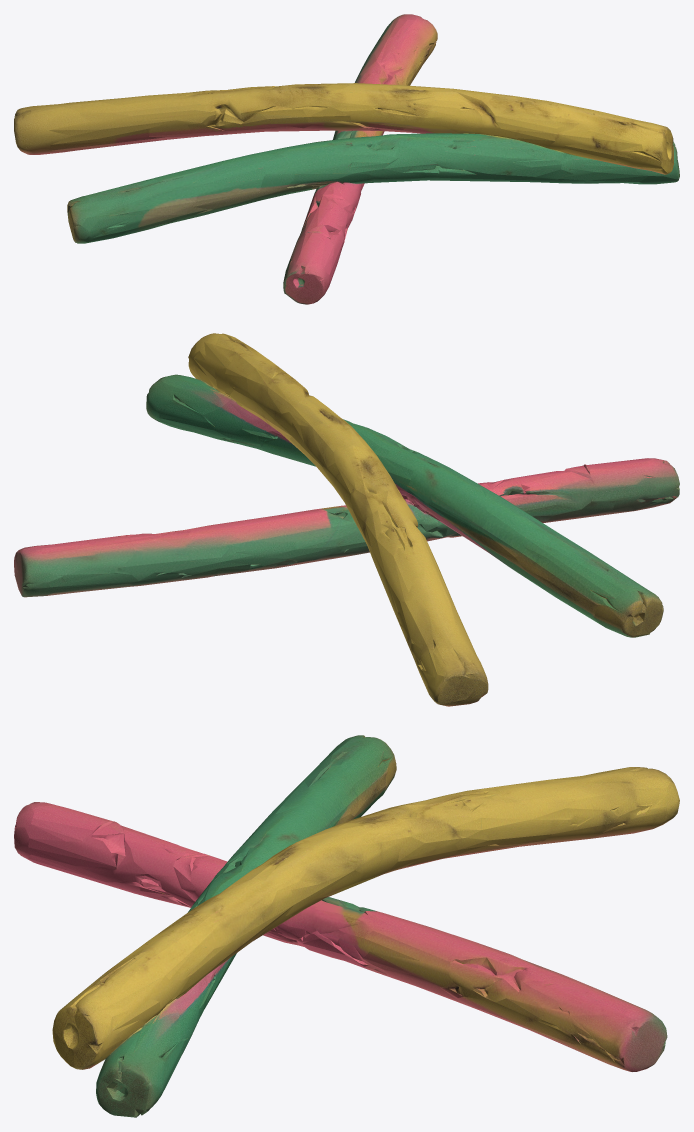
The model's file is tubi_galleggianti_meshy.glb.
3 renders of one model, top to bottom at view 1: azimuth 30°, elevation 25°; view 2: azimuth 150°, elevation 25°; view 3: azimuth 270°, elevation 25°, orthographic. The views are drawn at different scales.
Parts seen in each view (by area): view 1: Mesh_0; view 2: Mesh_0; view 3: Mesh_0.
Part boxes in pixels (bbox=[...]): Mesh_0: bbox=[14, 14, 679, 304]; Mesh_0: bbox=[14, 333, 679, 706]; Mesh_0: bbox=[14, 735, 679, 1117].
Bounding box in the file's own units: 1.9 × 0.3398 × 1.55.
Materials: 1 (1 with a texture image).
